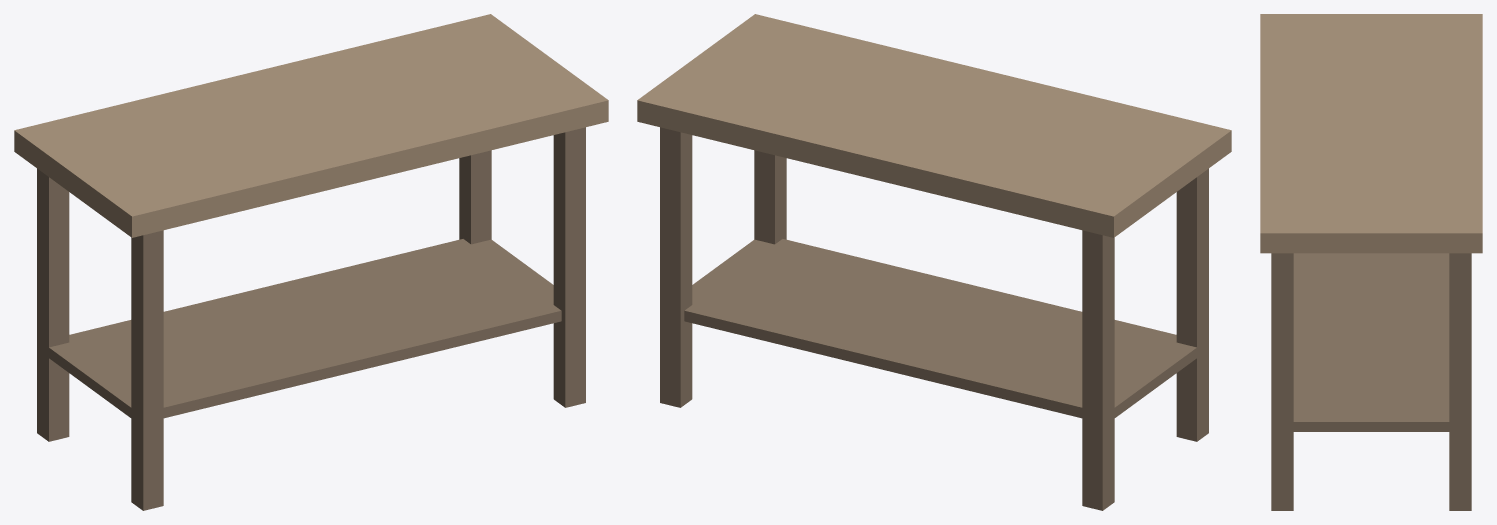
Rendered from bancada.glb.
3 renders of one model, left to right at view 1: azimuth 30°, elevation 25°; view 2: azimuth 150°, elevation 25°; view 3: azimuth 270°, elevation 25°, orthographic. The views are drawn at different scales.
Parts seen in each view (by area): view 1: bancada; view 2: bancada; view 3: bancada.
Part boxes in pixels (<box>): bancada: <box>14,14,608,510</box>; bancada: <box>637,14,1231,510</box>; bancada: <box>1260,14,1482,510</box>.
Size of the model in its own units: 1.4 by 0.85 by 0.6.
